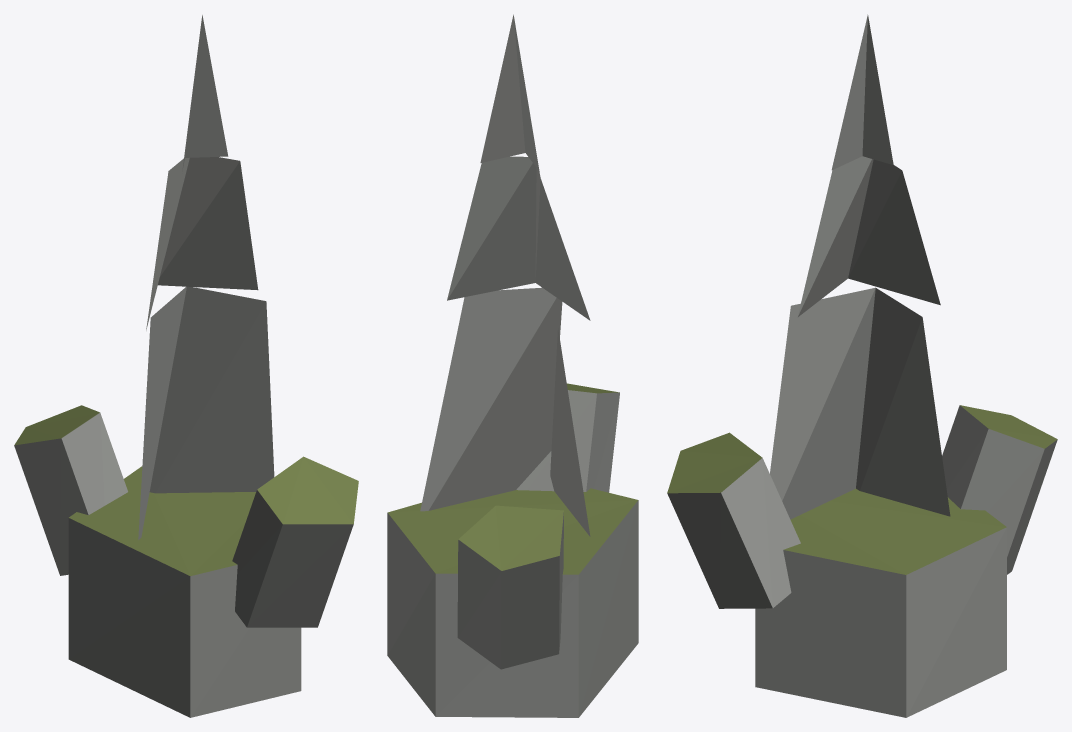
The model's file is rock.spire__crusted__summer.glb.
3 renders of one model, left to right at view 1: azimuth 30°, elevation 25°; view 2: azimuth 150°, elevation 25°; view 3: azimuth 270°, elevation 25°, orthographic.
Visible parts, largest first — view 1: rock.spire; view 2: rock.spire; view 3: rock.spire.
Part boxes in pixels (x1,y1,x2,y2): rock.spire: (14, 15, 358, 717); rock.spire: (387, 14, 638, 717); rock.spire: (667, 14, 1057, 717).
Size of the model in its own units: 0.7855 by 2.18 by 1.18.
